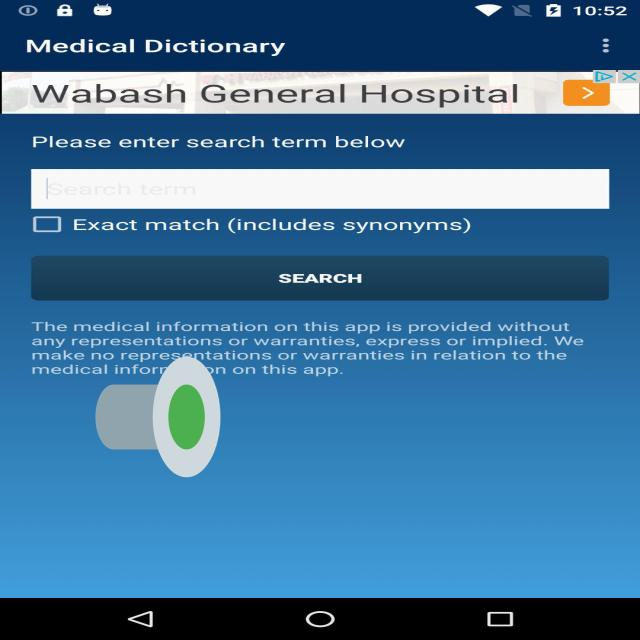social proof: (96, 306, 220, 528)
